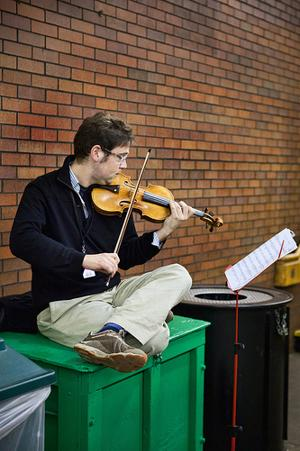person: (10, 114, 194, 374)
